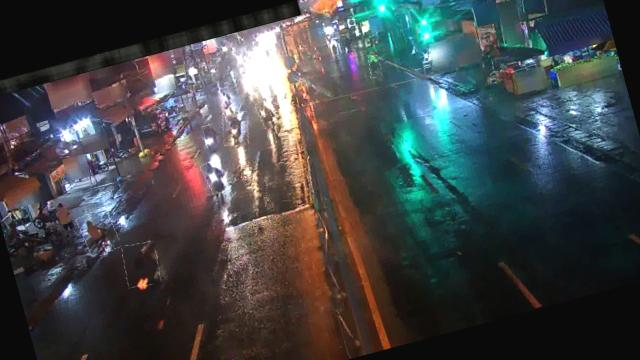Bike: (119, 238, 164, 289), (76, 207, 120, 258), (218, 108, 254, 148), (200, 158, 228, 195), (282, 80, 312, 110), (255, 98, 275, 130), (202, 124, 218, 148), (367, 54, 382, 78), (220, 100, 236, 122), (218, 86, 234, 107)
